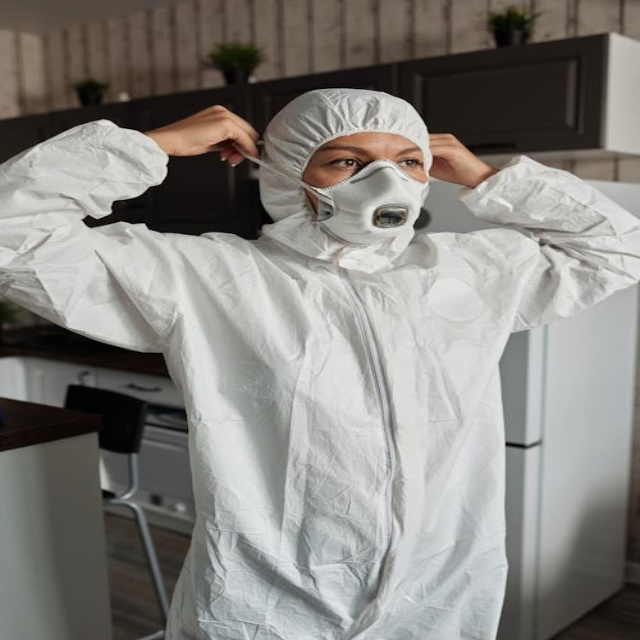Mascara: (301, 158, 425, 243)
Sin_gafas: (317, 146, 422, 172)
Sin_guantes: (148, 99, 261, 172), (426, 128, 502, 186)
